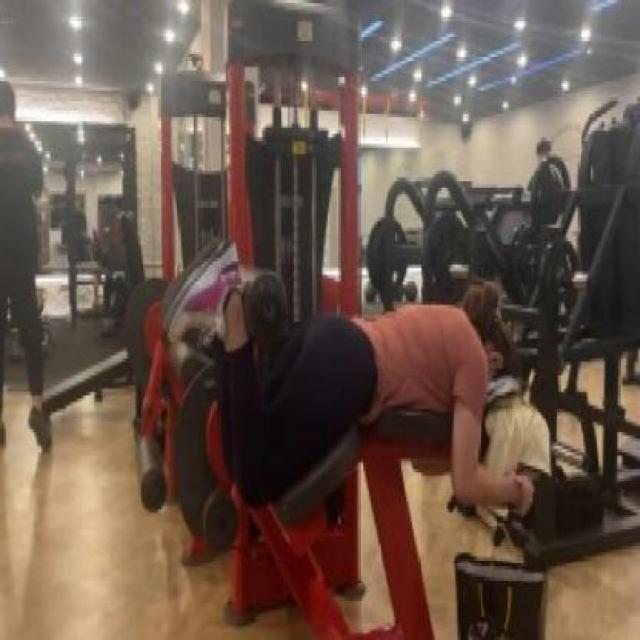reg curl machine: (123, 0, 537, 640)
